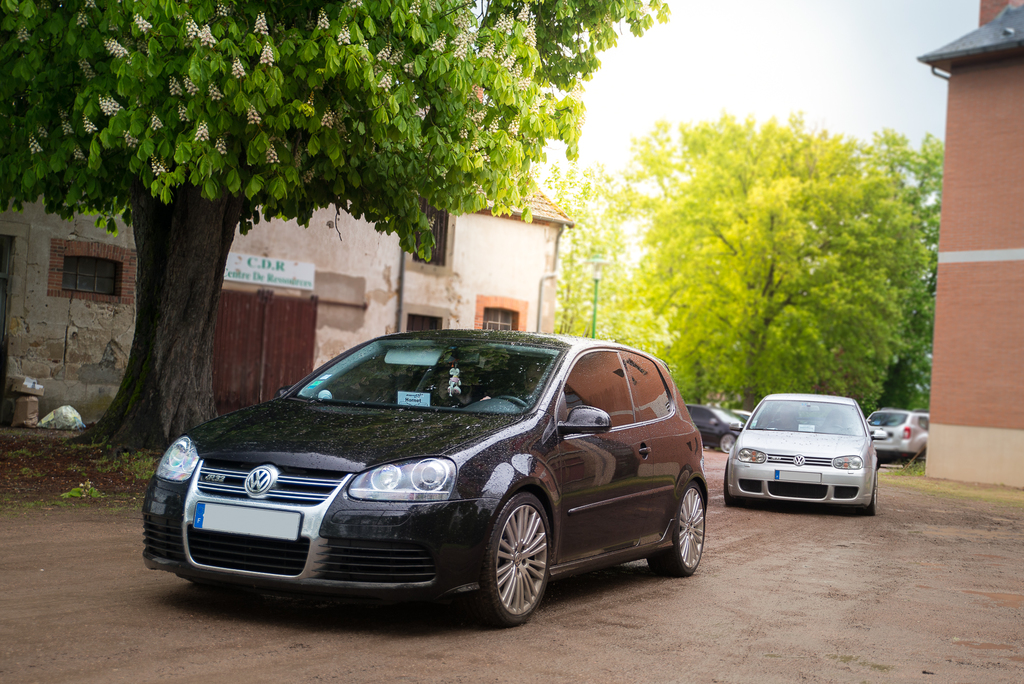Car: (138, 324, 712, 635), (721, 387, 878, 518), (860, 408, 929, 468), (685, 399, 741, 450)
